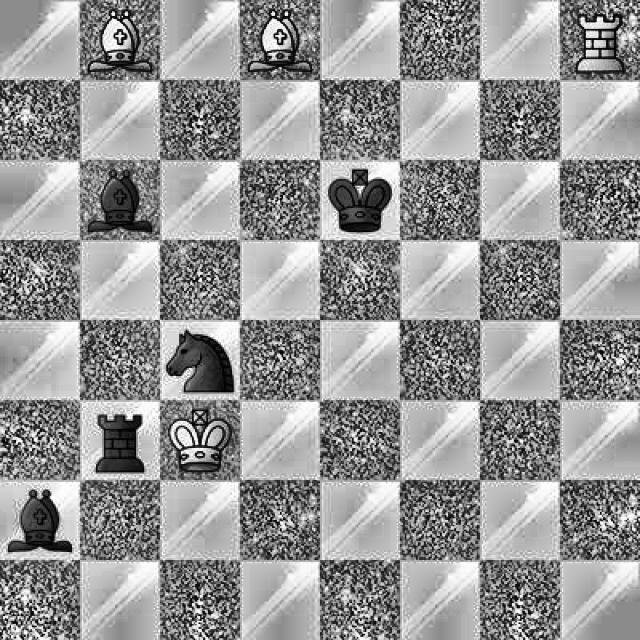Black Knight: (169, 326, 234, 396)
black bishop: (81, 159, 159, 242), (7, 478, 74, 558)
black king: (324, 158, 394, 238)
black rook: (87, 406, 155, 477)
white bishop: (245, 9, 320, 78), (94, 6, 152, 79)
white king: (165, 402, 237, 478)
white rook: (574, 7, 631, 77)
